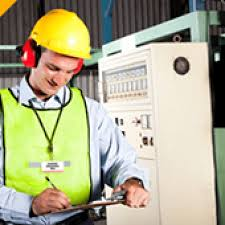Person_wearing_helmet: (25, 6, 93, 67)
